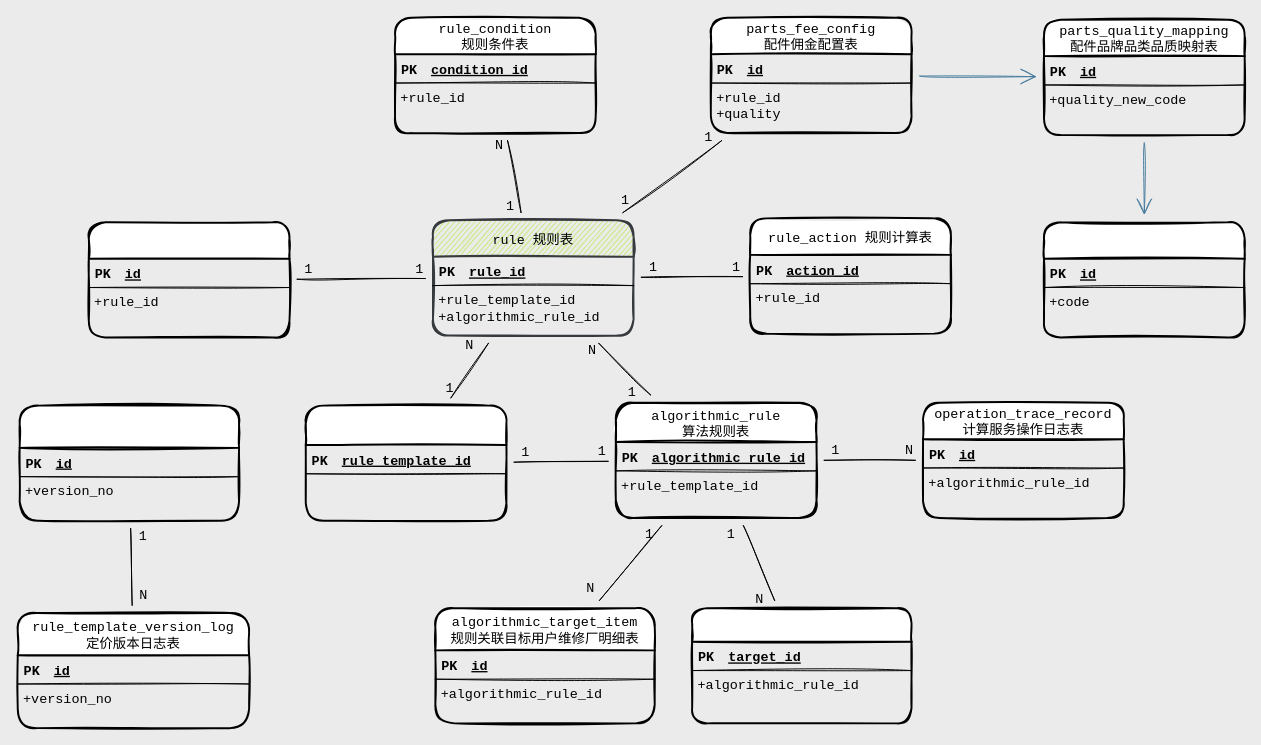
This 1261x745 diagram has some shape labels left out. The box of each missing label's shape, as (x1, y1, x2, y2) in pixels:
algorithmic_target 目标对象表: (691, 607, 912, 724)
parts_quality_config 配件品质配置表: (1043, 221, 1245, 338)
rule_condition_field 规则配置条件名称显示冗余表: (87, 221, 290, 338)
rule_template 规则模板表: (304, 404, 507, 521)
rule_template_version 定价版本表: (18, 404, 240, 521)
